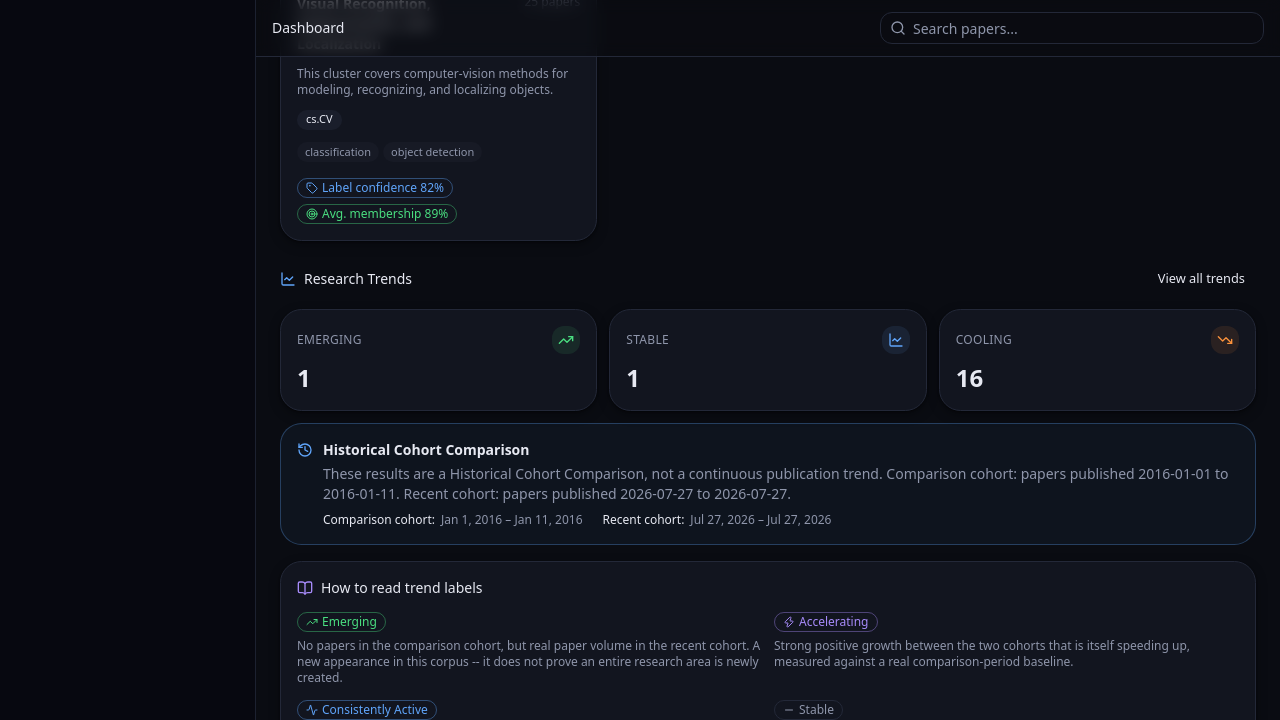
DashboardPage › clicking the Emerging trend stat navigates to Research Trends pre-filtered by classification
The image size is (1280, 720).
(page scrolled)
Click the link "Emerging 1" at (329,340), box [280,309,597,411]
(page scrolled)
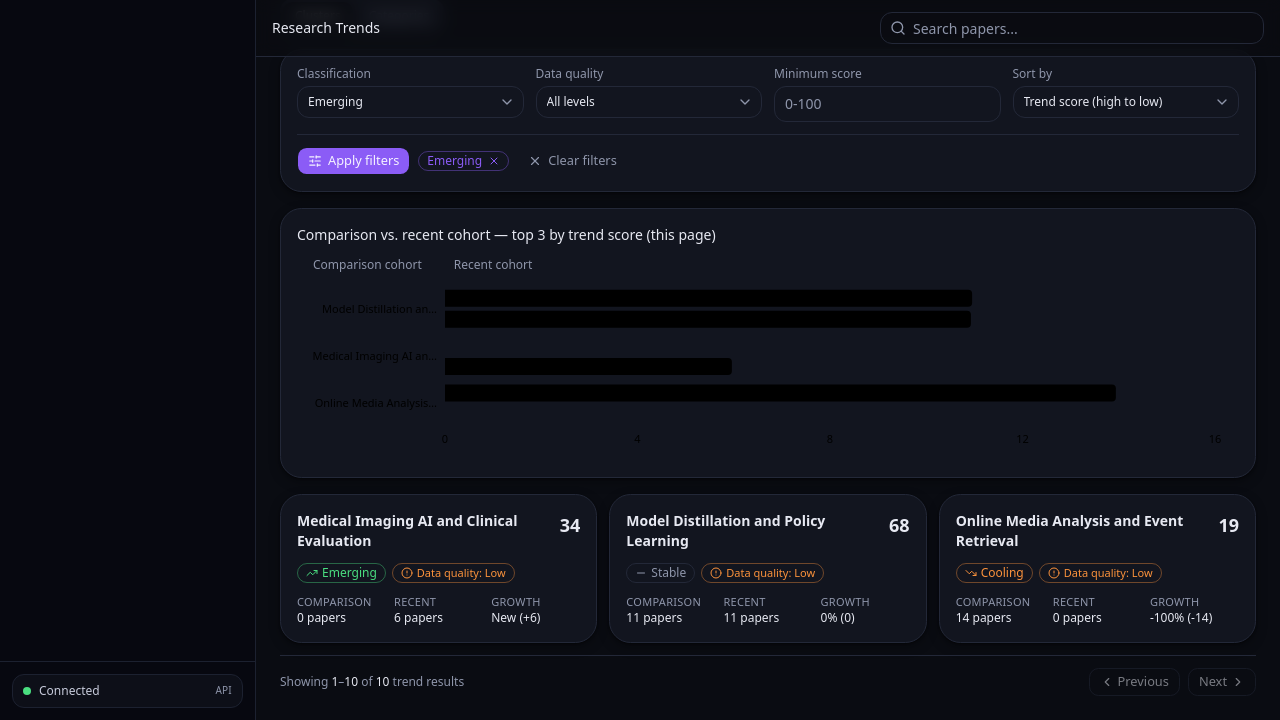
Expected: the heading "Research Trends" is shown, [272,18,380,38]
